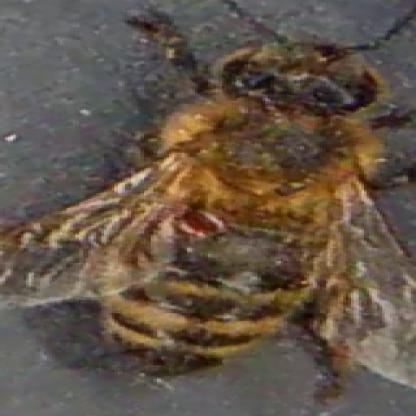bee: (69, 30, 374, 372)
vaoora: (166, 207, 236, 234)
